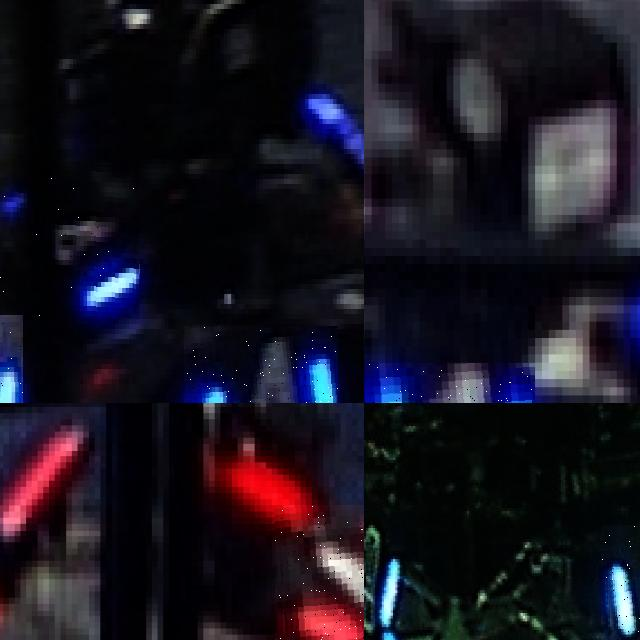B3: (601, 525, 640, 640)
B4: (0, 161, 139, 321), (183, 326, 338, 403), (365, 362, 535, 403)
R4: (275, 505, 364, 640)
